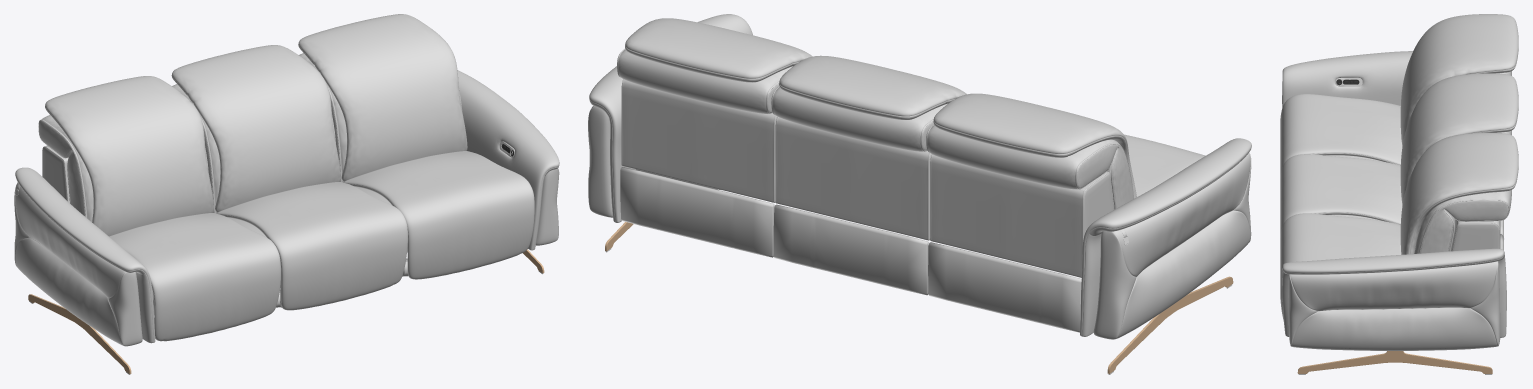
Rendered from SBH_HUDSON_3_Seater.glb.
3 views of the same model, side by side, from view 1: azimuth 30°, elevation 25°; view 2: azimuth 150°, elevation 25°; view 3: azimuth 270°, elevation 25° (orthographic). The views are drawn at different scales.
Parts seen in each view (by area): view 1: HUDSON_3_Seater; view 2: HUDSON_3_Seater; view 3: HUDSON_3_Seater.
Part boxes in pixels (bbox=[...]): HUDSON_3_Seater: bbox=[14, 14, 559, 374]; HUDSON_3_Seater: bbox=[588, 14, 1251, 374]; HUDSON_3_Seater: bbox=[1280, 14, 1518, 374].
Bounding box in the file's own units: 2.35 × 0.9254 × 1.1.
